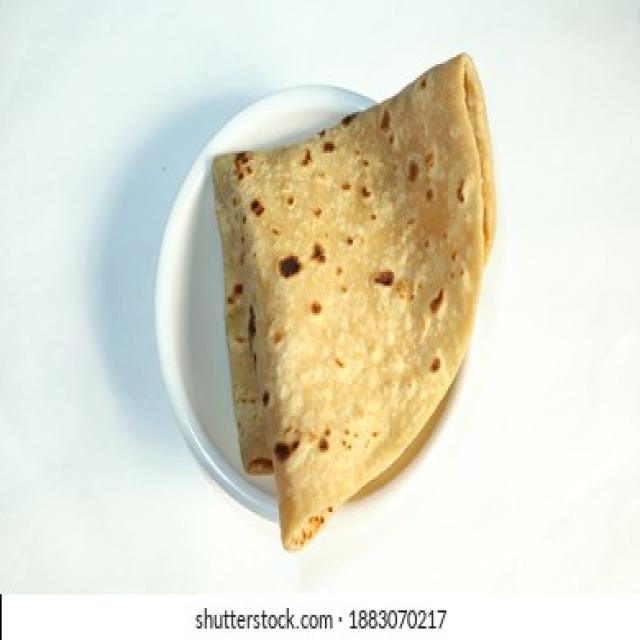ROTI: (215, 59, 482, 544)
